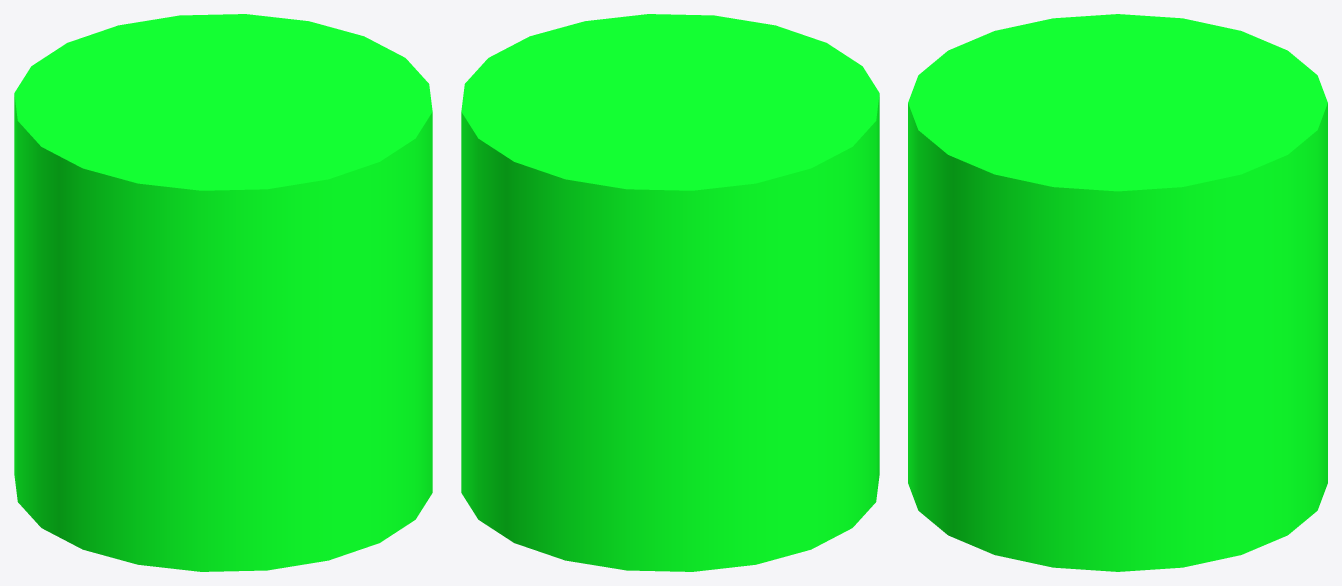
File: 415206b0-fd29-4c9c-aec2-01d738fe2f72.glb
3 views of the same model, side by side, from view 1: azimuth 30°, elevation 25°; view 2: azimuth 150°, elevation 25°; view 3: azimuth 270°, elevation 25° (orthographic).
Parts seen in each view (by area): view 1: BaseCylinder.004; view 2: BaseCylinder.004; view 3: BaseCylinder.004.
Boxes of the visible parts, x1=… form: BaseCylinder.004: x1=14, y1=14, x2=432, y2=571; BaseCylinder.004: x1=461, y1=14, x2=879, y2=571; BaseCylinder.004: x1=908, y1=14, x2=1327, y2=571.
Size of what is drawn, in the model's own units: 0.7489 by 0.7489 by 0.7489.
1 material, 1 textured.
